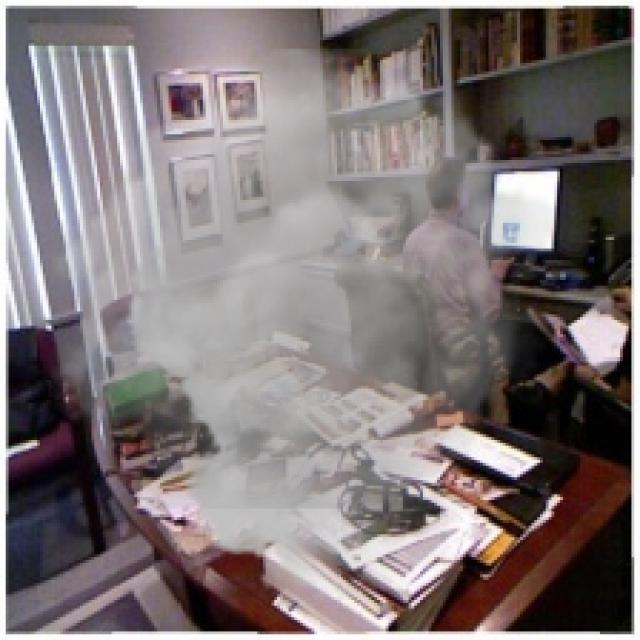Smoke: (31, 49, 558, 600)
